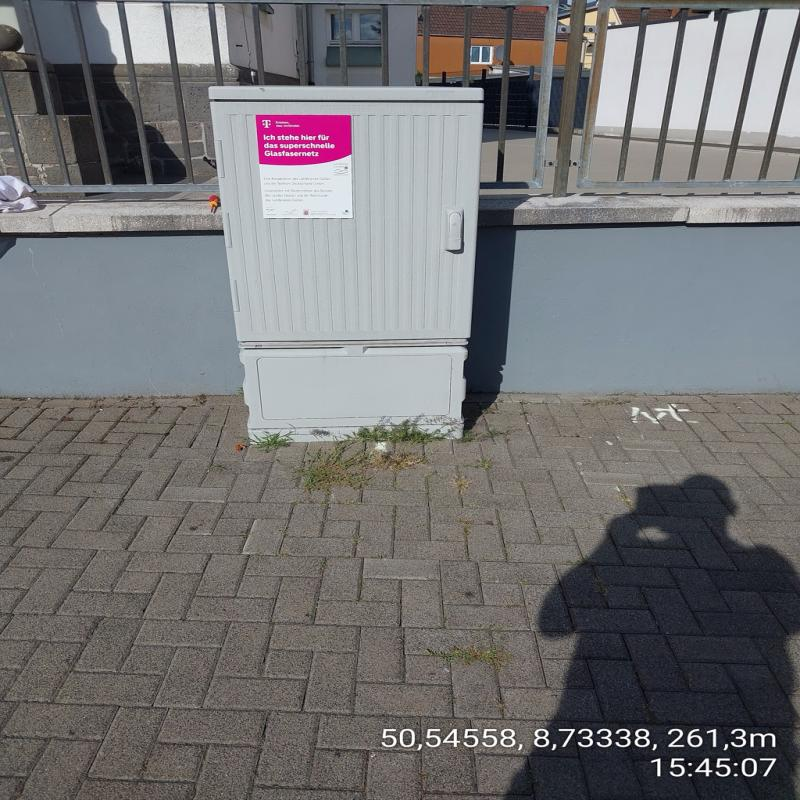NT-Gehause: (209, 85, 478, 432)
Steaker: (252, 113, 352, 220)
